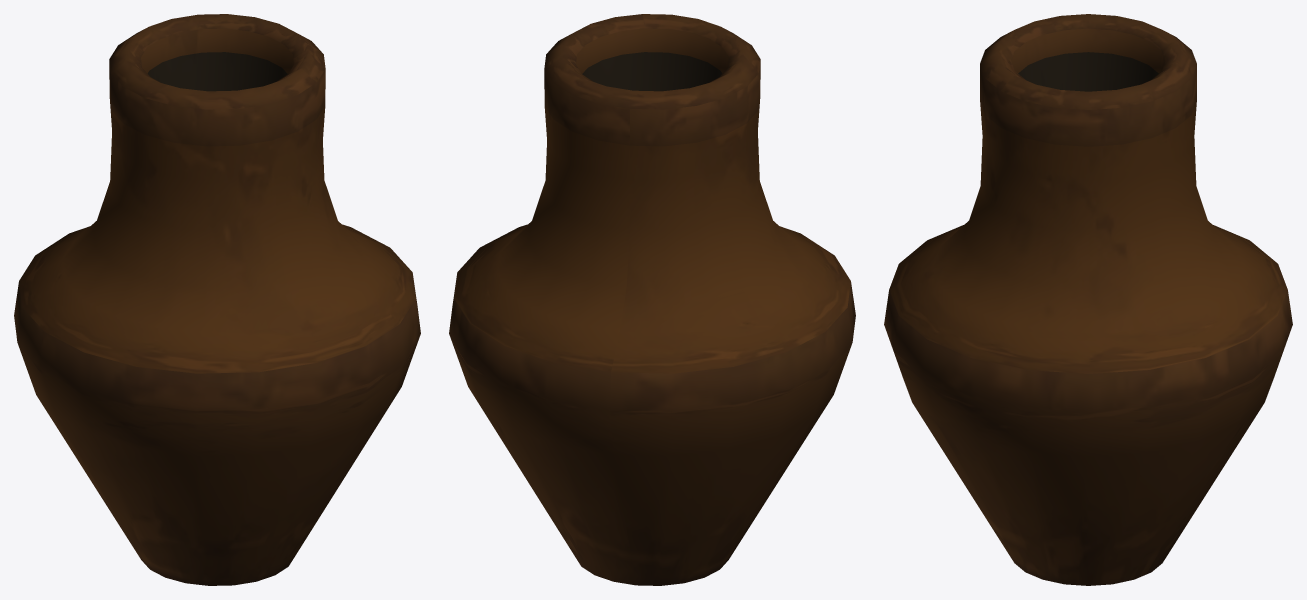
File: Vase_4.gltf
3 renders of one model, left to right at view 1: azimuth 30°, elevation 25°; view 2: azimuth 150°, elevation 25°; view 3: azimuth 270°, elevation 25°, orthographic.
Parts seen in each view (by area): view 1: Vase_4; view 2: Vase_4; view 3: Vase_4.
Part boxes in pixels (x1,y1,x2,y2): Vase_4: [14, 14, 420, 585]; Vase_4: [449, 14, 855, 585]; Vase_4: [884, 14, 1292, 585].
Size of the model in its own units: 0.3596 by 0.4855 by 0.3596.
1 material, 1 textured.
